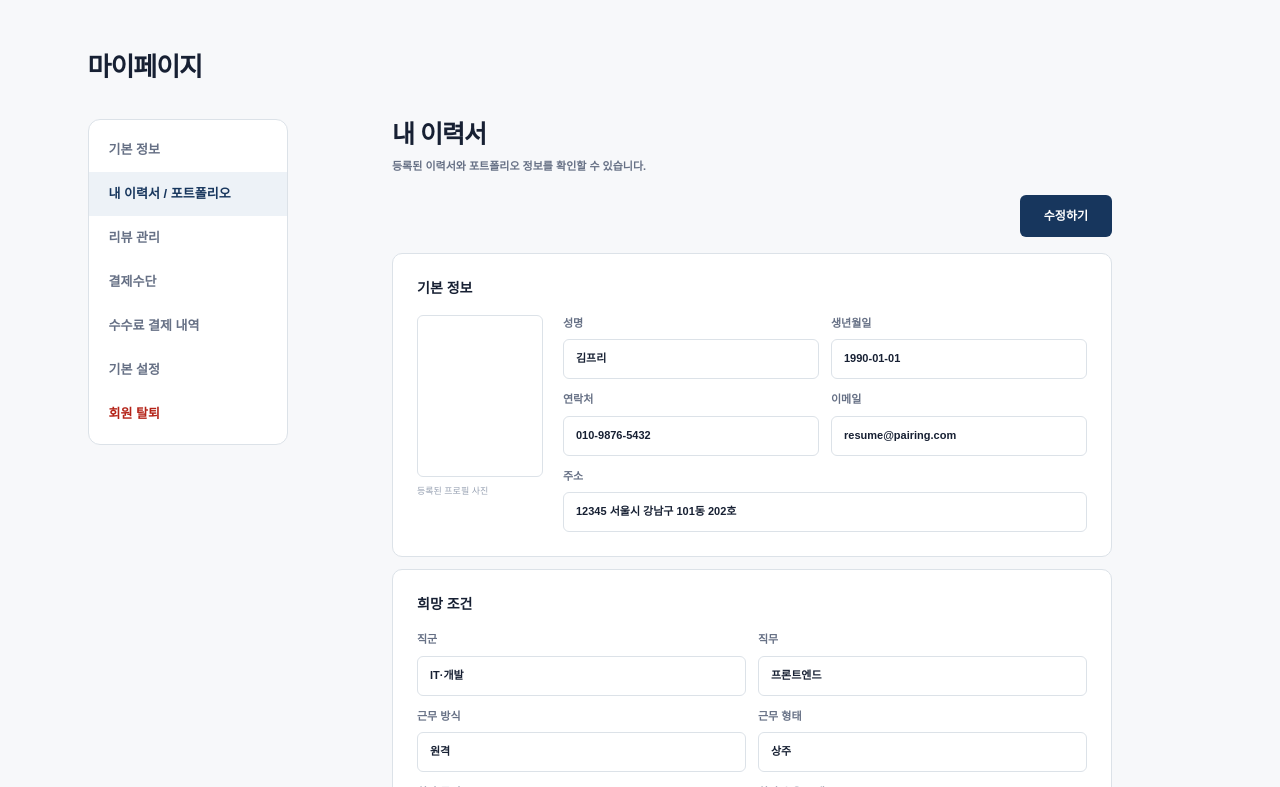
조회 화면에서 수정하기를 누르면 폼 화면으로 전환된다
Click the button "수정하기".
click(1066, 216)  # box top-left (1020, 195), bottom-right (1112, 237)
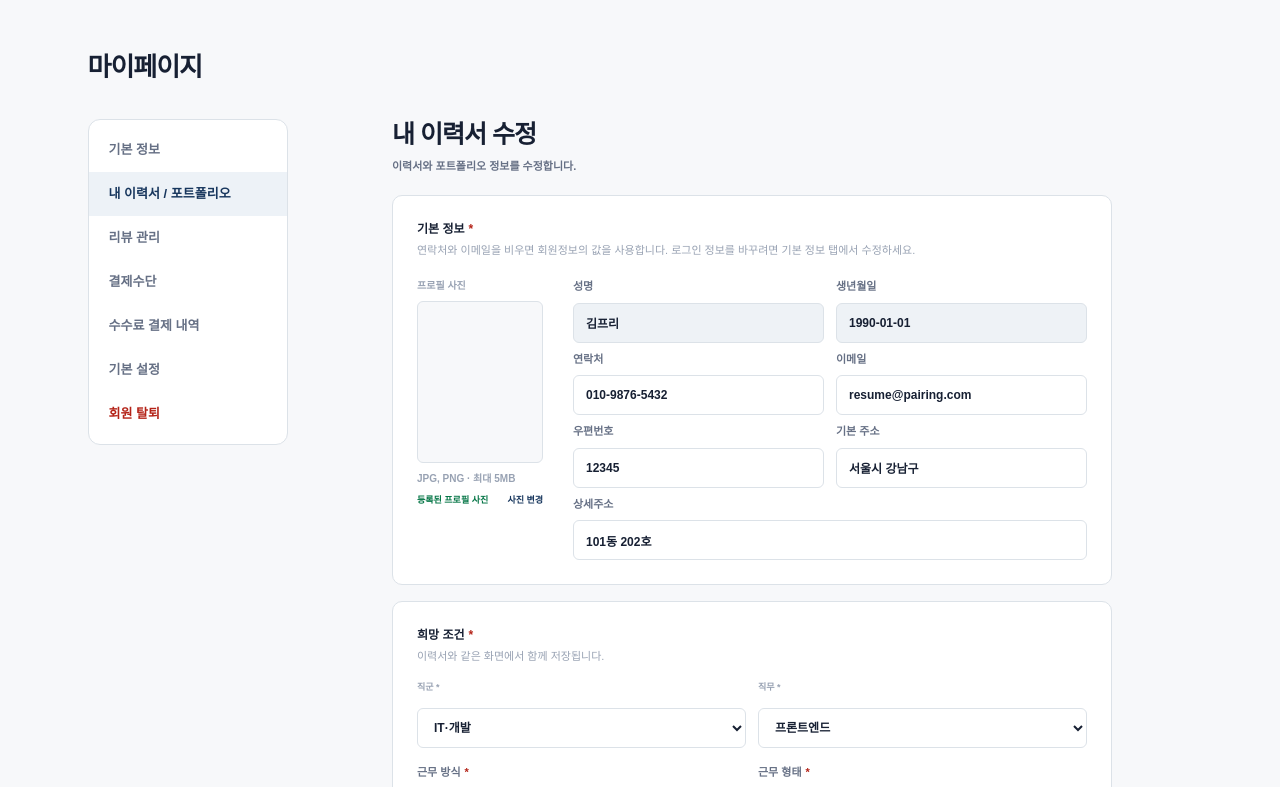
Expected: the heading "내 이력서 수정" is shown, top-left (392, 120), bottom-right (536, 148)
Expected: the text "이력서와 포트폴리오 정보를 수정합니다." is shown, top-left (392, 160), bottom-right (576, 172)
